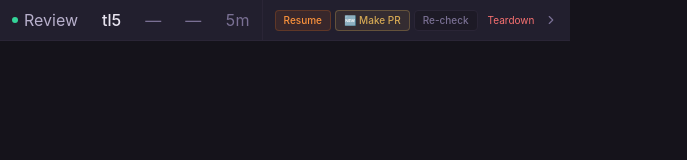
Scenario: StackTableRow completed Resume button (token-limited) › shows not_token_limited feedback when outcome is not_token_limited
Click the button with test id "row-resume-completed-tl5".
click(303, 20)  # box [275,10,331,30]
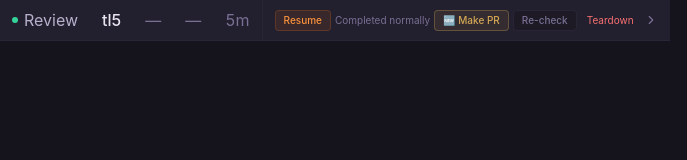
Expected: the text "Completed normally" is shown, [335,12,430,28]
